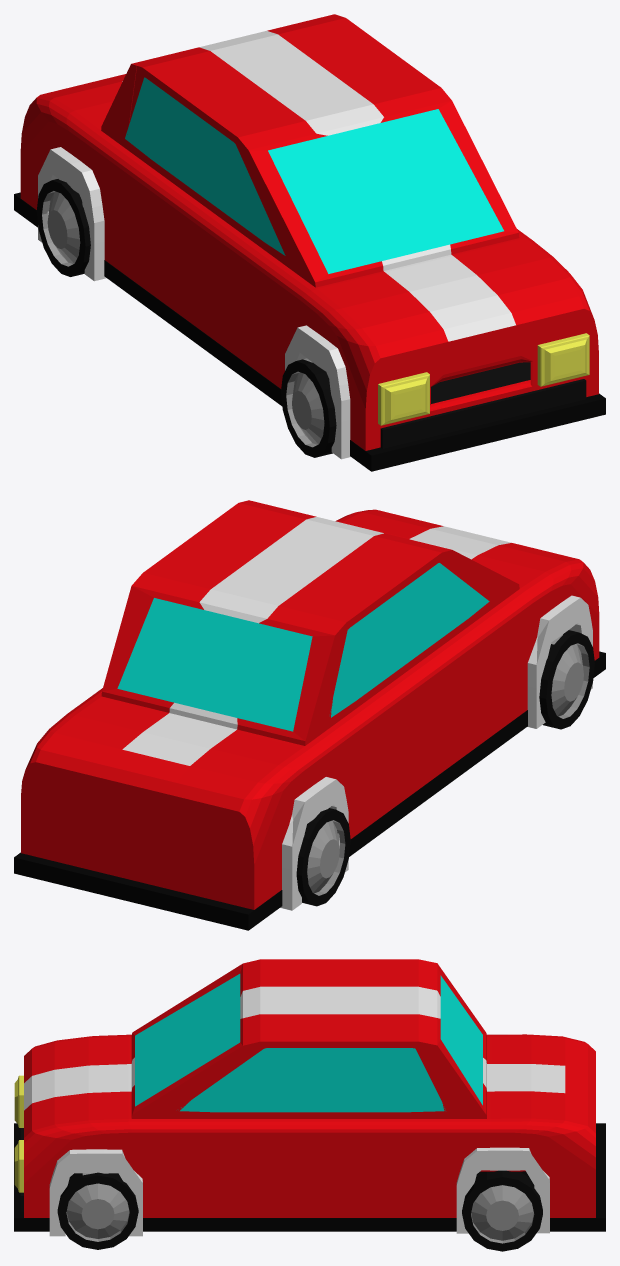
The model's file is AUTO.fbx.
The picture shows the model from 3 angles, top to bottom: view 1: azimuth 30°, elevation 25°; view 2: azimuth 150°, elevation 25°; view 3: azimuth 270°, elevation 25°; orthographic projection. The views are drawn at different scales.
Visible parts, largest first — view 1: Cube, Cube.008, Cube.003, Cylinder.001, Cylinder.004, Cube.007, Cube.006, Cube.002, Cube.001; view 2: Cube, Cube.008, Cylinder.001, Cylinder.004, Cube.007, Cube.006; view 3: Cube, Cube.008, Cylinder.002, Cylinder.003, Cube.004, Cube.005, Cube.001, Cube.002.
Boxes of the visible parts, x1,y1,x2,y2 form: Cube: (20,14,598,450); Cube.008: (14,192,605,471); Cube.003: (380,379,586,448); Cylinder.001: (281,358,336,457); Cylinder.004: (36,179,90,276); Cube.007: (38,147,106,281); Cube.006: (285,325,350,459); Cube.002: (537,333,589,386); Cube.001: (378,372,429,425); Cube: (21,500,599,909); Cube.008: (14,651,605,930); Cylinder.001: (539,630,594,729); Cylinder.004: (296,808,350,906); Cube.007: (280,777,348,910); Cube.006: (527,595,592,728); Cube: (24,959,595,1217); Cube.008: (14,1123,605,1231); Cylinder.002: (462,1170,542,1251); Cylinder.003: (57,1172,138,1249); Cube.004: (49,1149,142,1236); Cube.005: (456,1147,549,1233); Cube.001: (14,1075,23,1127); Cube.002: (14,1140,23,1192).
Bounding box in the file's own units: 269 × 223 × 608.
